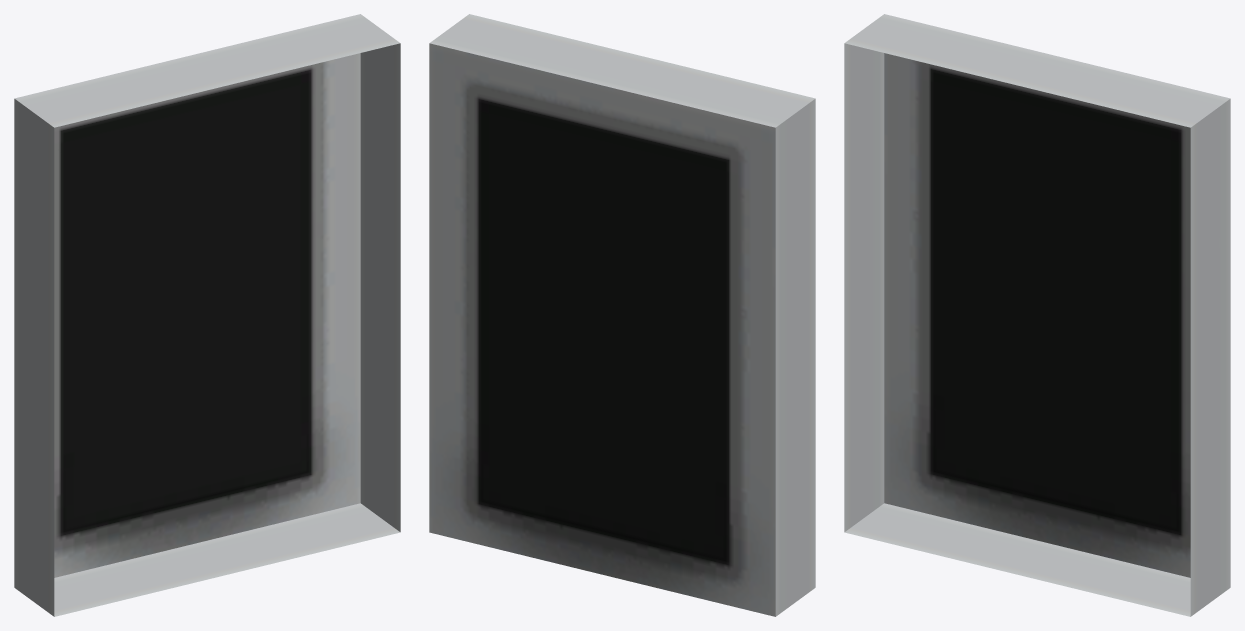
File: jw_joint_1b.gltf
The picture shows the model from 3 angles, left to right: view 1: azimuth 30°, elevation 25°; view 2: azimuth 150°, elevation 25°; view 3: azimuth 330°, elevation 25°; orthographic projection.
Visible parts, largest first — view 1: jw_joint_1b; view 2: jw_joint_1b; view 3: jw_joint_1b.
Part boxes in pixels (x1=…): jw_joint_1b: x1=14, y1=14, x2=400, y2=616; jw_joint_1b: x1=429, y1=14, x2=815, y2=616; jw_joint_1b: x1=844, y1=14, x2=1230, y2=616.
Size of the model in its own units: 2 by 2.7 by 0.4.
